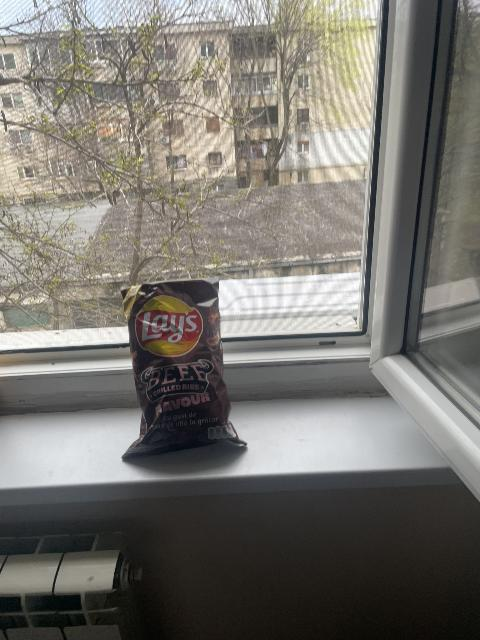Lays Beef Grilled Ribs 125g: (121, 279, 250, 458)
